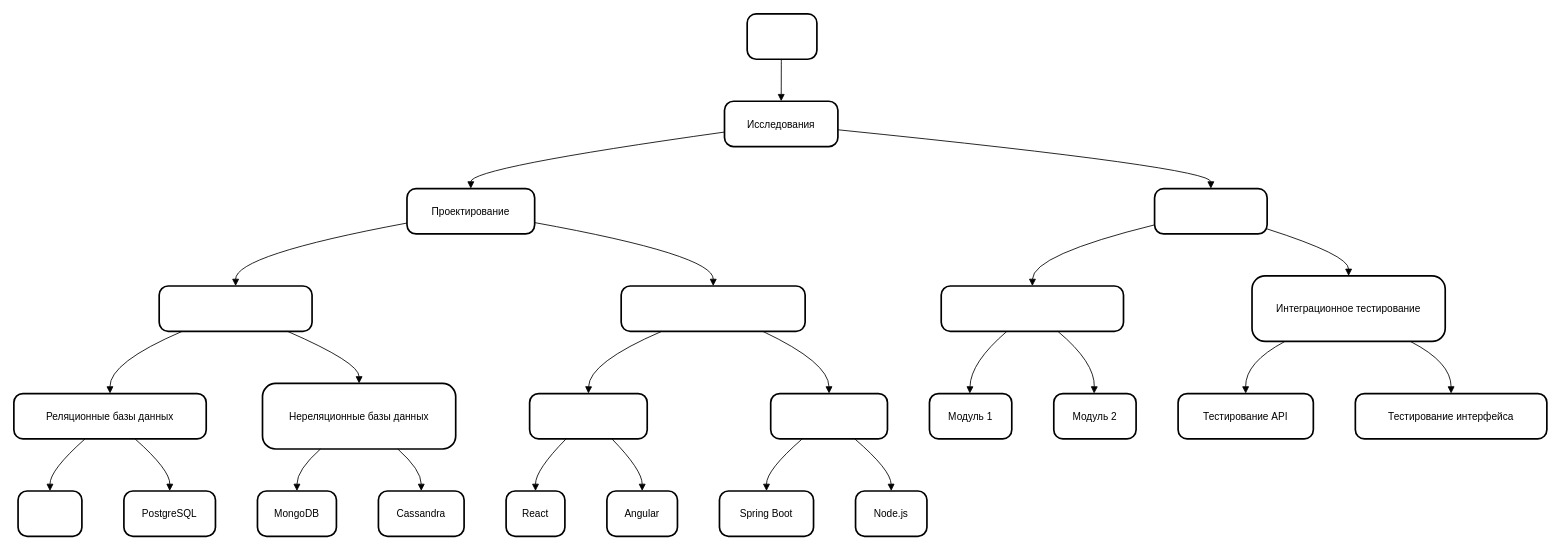
Some shapes in this 1561 by 550 pixel diagram are drawn without their labels. The shapes that lost their labels are listed below. From the top down, each one's centre as x and y in pixels, then its label:
pixel 781 36: Начало
pixel 1210 210: Тестирование
pixel 235 308: Архитектура данных
pixel 713 308: Архитектура приложений
pixel 1032 308: Модульное тестирование
pixel 588 415: Клиент-сервер
pixel 828 415: Микросервисы
pixel 49 513: MySQL
